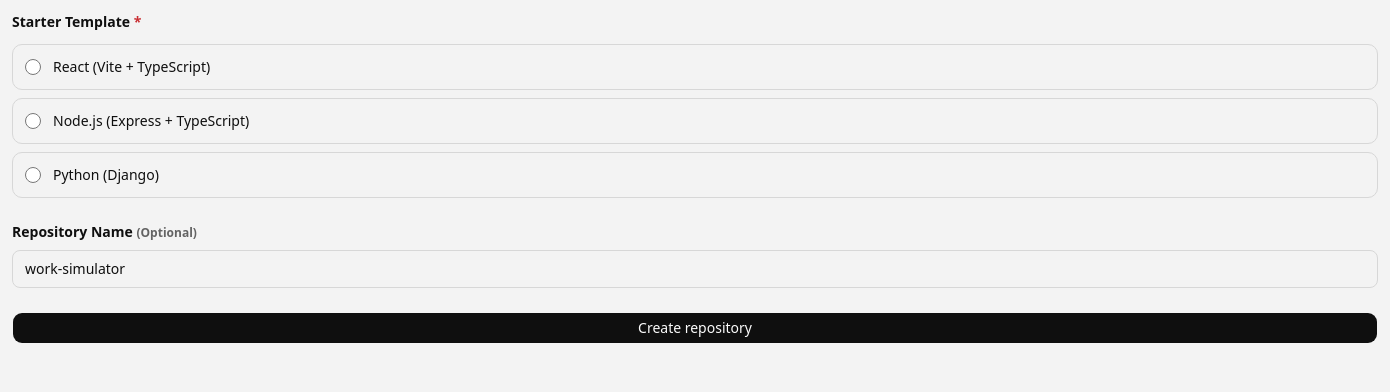
RepoCreateForm › shows validation error when no starter template is selected
Click the button "Create repository" at (695, 328), box [12, 312, 1378, 344]
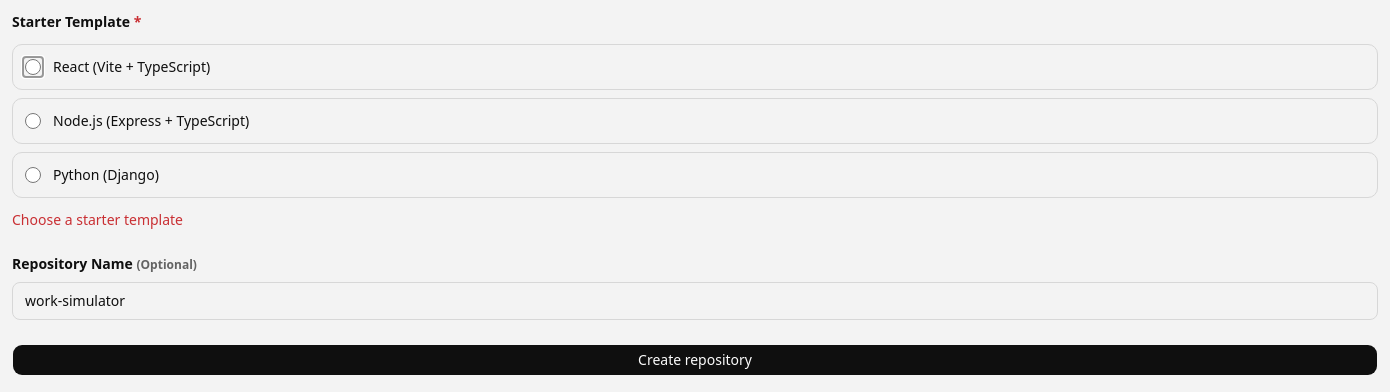
Now the text "Choose a starter template" is shown, box [12, 210, 183, 229]
